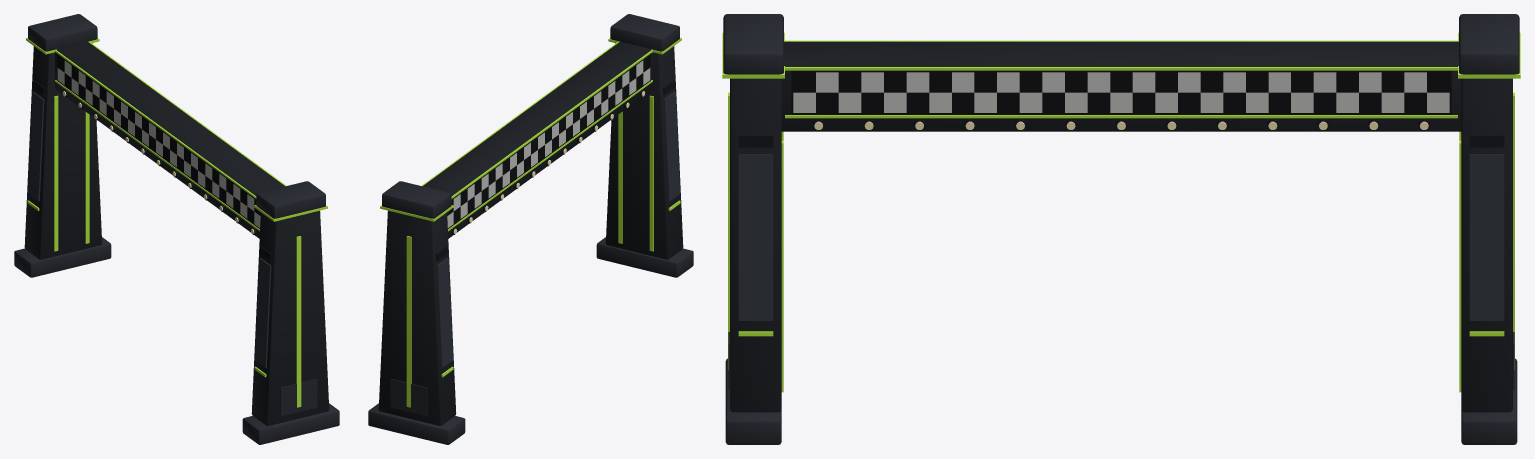
File: finish_gate.glb
3 views of the same model, side by side, from view 1: azimuth 30°, elevation 25°; view 2: azimuth 150°, elevation 25°; view 3: azimuth 270°, elevation 25° (orthographic). The views are drawn at different scales.
Parts seen in each view (by area): view 1: Frame, Glow; view 2: Frame, Glow; view 3: Frame, Glow, Lights.
Boxes of the visible parts, x1,y1,x2,y2 form: Frame: (14, 14, 339, 444); Glow: (26, 37, 327, 407); Frame: (368, 14, 693, 444); Glow: (380, 37, 681, 407); Frame: (723, 14, 1519, 444); Glow: (722, 32, 1520, 392); Lights: (814, 121, 1428, 129).
Size of the model in its own units: 2.7 by 7.5 by 14.24.
